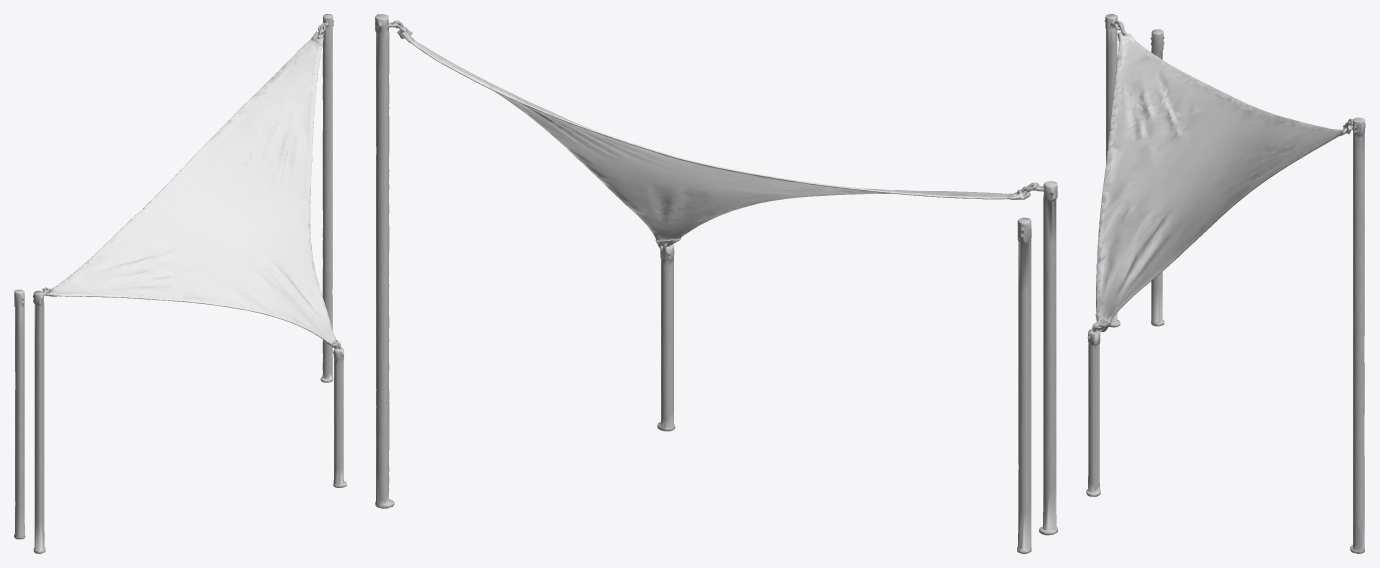
Rendered from sail1.glb.
The picture shows the model from 3 angles, left to right: view 1: azimuth 30°, elevation 25°; view 2: azimuth 150°, elevation 25°; view 3: azimuth 270°, elevation 25°; orthographic projection. The views are drawn at different scales.
Visible parts, largest first — view 1: mesh_node; view 2: mesh_node; view 3: mesh_node.
Boxes of the visible parts, box(x1,y1,x2,y2) form: mesh_node: box(14, 14, 346, 553); mesh_node: box(375, 14, 1057, 553); mesh_node: box(1086, 14, 1365, 553).
Bounding box in the file's own units: 1.9 × 1.64 × 0.9648.
1 material, 1 textured.
